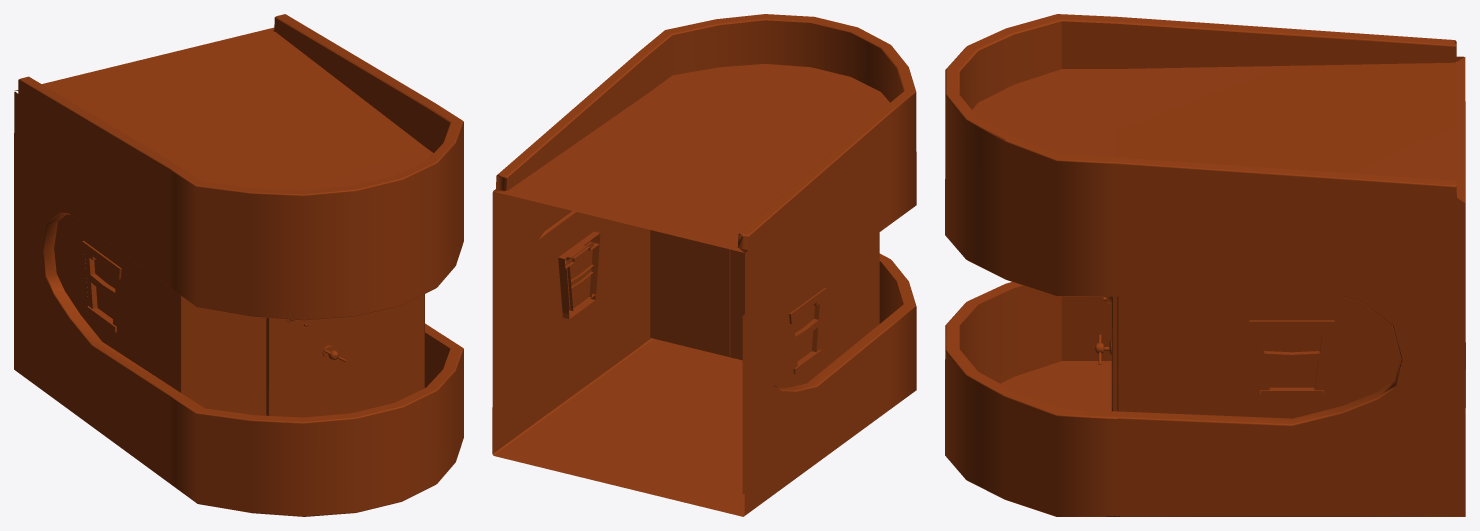
3 views of the same model, side by side, from view 1: azimuth 30°, elevation 25°; view 2: azimuth 150°, elevation 25°; view 3: azimuth 270°, elevation 25° (orthographic). The views are drawn at different scales.
Visible parts, largest first — view 1: Object510; view 2: Object510; view 3: Object510.
Boxes of the visible parts, bbox=[...] form: Object510: bbox=[14, 14, 463, 516]; Object510: bbox=[492, 14, 916, 516]; Object510: bbox=[945, 14, 1465, 516].
Size of the model in its own units: 400 by 462 by 600.
